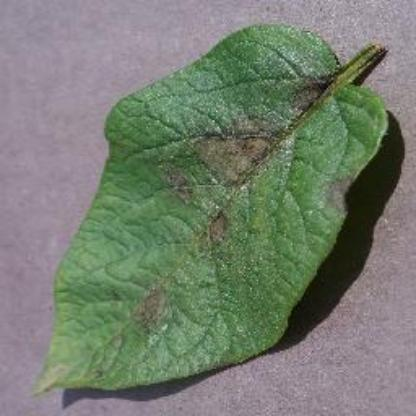Late-Blight: (35, 12, 403, 390)
